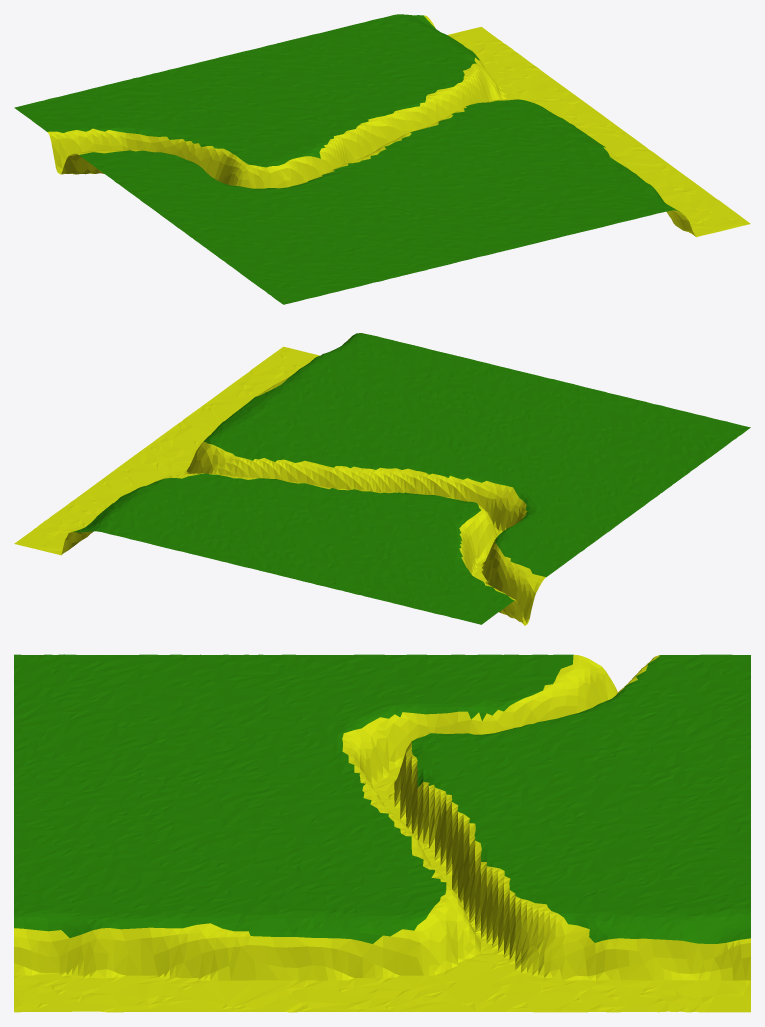
3 views of the same model, one above another, from view 1: azimuth 30°, elevation 25°; view 2: azimuth 150°, elevation 25°; view 3: azimuth 270°, elevation 25° (orthographic). The views are drawn at different scales.
Visible parts, largest first — view 1: TerrainVeryHigh.001; view 2: TerrainVeryHigh.001; view 3: TerrainVeryHigh.001.
Boxes of the visible parts, bbox=[...] form: TerrainVeryHigh.001: bbox=[14, 14, 750, 304]; TerrainVeryHigh.001: bbox=[14, 333, 750, 625]; TerrainVeryHigh.001: bbox=[14, 654, 750, 1012].
Bounding box in the file's own units: 1253 × 1251 × 86.45.
